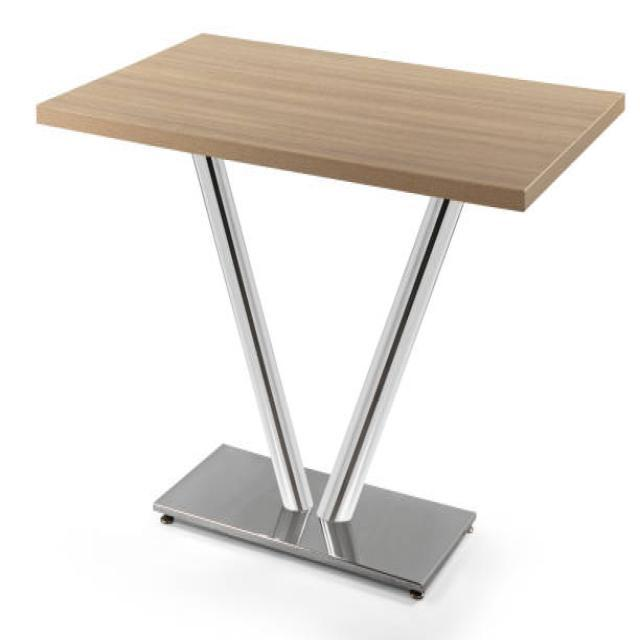table: (34, 28, 626, 601)
